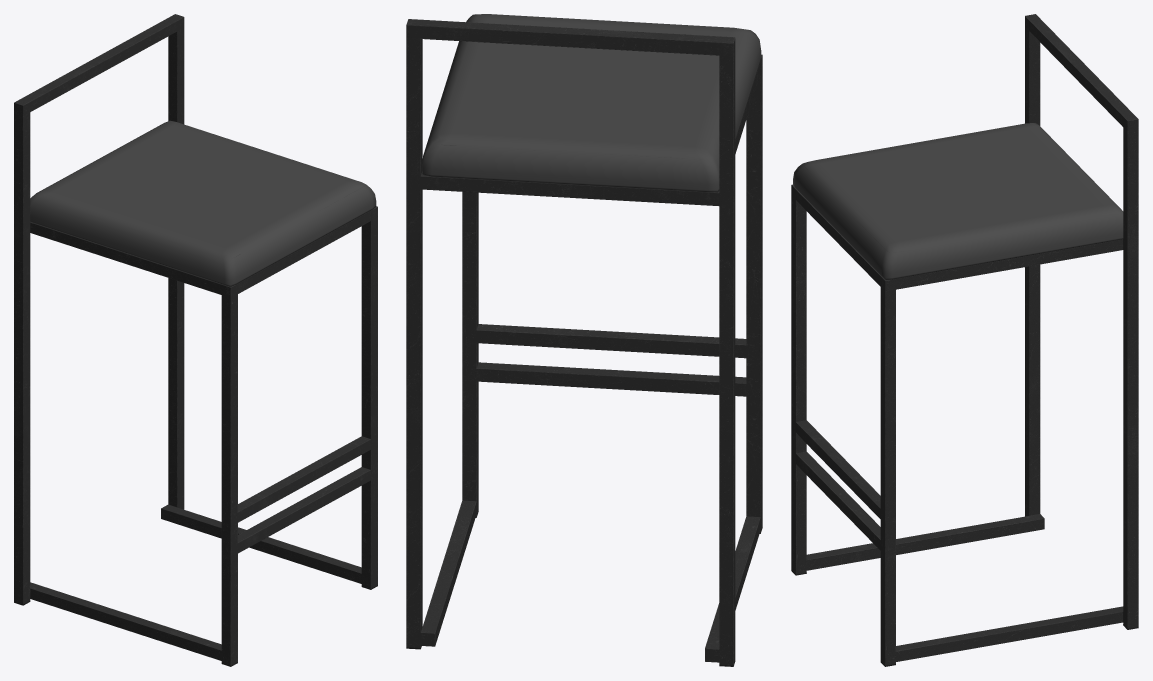
File: Bar_Stool.fbx
3 renders of one model, left to right at view 1: azimuth 30°, elevation 25°; view 2: azimuth 150°, elevation 25°; view 3: azimuth 270°, elevation 25°, orthographic. The views are drawn at different scales.
Parts seen in each view (by area): view 1: Bar_Stool; view 2: Bar_Stool; view 3: Bar_Stool.
Boxes of the visible parts, x1,y1,x2,y2 form: Bar_Stool: [14, 14, 377, 666]; Bar_Stool: [406, 14, 762, 666]; Bar_Stool: [791, 14, 1138, 666].
Bounding box in the file's own units: 5.55 × 9.15 × 5.66.
